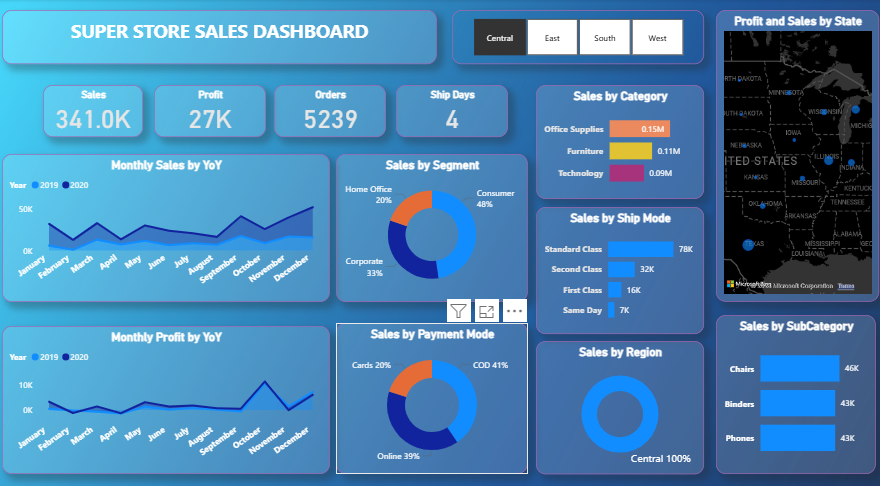

What the dashboard file says about the page in this screenshot:
{"tool":"powerbi","page":{"name":"Page 1","canvas":[1280,720],"ordinal":0},"visuals":[{"type":"clusteredBarChart","title":"Sales by Category","fields":{"Category":["SuperStore_Sales_Dataset.Category"],"Y":["Sum(SuperStore_Sales_Dataset.Sales)"]},"box":[776.2,123.8,241.9,164.2],"z":0},{"type":"clusteredBarChart","title":"Sales by SubCategory","fields":{"Category":["SuperStore_Sales_Dataset.Sub-Category"],"Y":["Sum(SuperStore_Sales_Dataset.Sales)"]},"box":[1035.4,455,230.4,229],"z":1000},{"type":"clusteredBarChart","title":"Sales by Ship Mode","fields":{"Y":["Sum(SuperStore_Sales_Dataset.Sales)"],"Category":["SuperStore_Sales_Dataset.Ship Mode"]},"box":[776.2,299.5,241.9,182.9],"z":2000},{"type":"stackedAreaChart","title":"Monthly Sales by YoY","fields":{"Y":["Sum(SuperStore_Sales_Dataset.Sales)"],"Category":["SuperStore_Sales_Dataset.Order Date.Variation.Date Hierarchy.Month","SuperStore_Sales_Dataset.Order Date.Variation.Date Hierarchy.Day"],"Series":["SuperStore_Sales_Dataset.Order Date.Variation.Date Hierarchy.Year"]},"box":[7.2,223.2,472.3,213.1],"z":3000},{"type":"stackedAreaChart","title":"Monthly Profit by YoY","fields":{"Category":["SuperStore_Sales_Dataset.Order Date.Variation.Date Hierarchy.Month","SuperStore_Sales_Dataset.Order Date.Variation.Date Hierarchy.Day"],"Series":["SuperStore_Sales_Dataset.Order Date.Variation.Date Hierarchy.Year"],"Y":["Sum(SuperStore_Sales_Dataset.Profit)"]},"box":[7.2,470.9,472.3,213.1],"z":4000},{"type":"map","title":"Profit and Sales by State","fields":{"Category":["SuperStore_Sales_Dataset.State"],"Size":["Sum(SuperStore_Sales_Dataset.Sales)"]},"box":[1035.4,15.8,234.7,420.5],"z":5000},{"type":"donutChart","title":"Sales by Segment","fields":{"Category":["SuperStore_Sales_Dataset.Segment"],"Y":["Sum(SuperStore_Sales_Dataset.Sales)"]},"box":[488.2,223.2,276.5,213.1],"z":6000},{"type":"donutChart","title":"Sales by Payment Mode","fields":{"Category":["SuperStore_Sales_Dataset.Payment Mode"],"Y":["Sum(SuperStore_Sales_Dataset.Sales)"]},"box":[488.2,466.6,276.5,217.4],"z":7000},{"type":"donutChart","title":"Sales by Region","fields":{"Category":["SuperStore_Sales_Dataset.Region"],"Y":["Sum(SuperStore_Sales_Dataset.Sales)"]},"box":[776.2,492.5,241.9,191.5],"z":8000},{"type":"slicer","fields":{"Values":["SuperStore_Sales_Dataset.Region"]},"box":[655.2,15.8,362.9,77.8],"z":9000},{"type":"textbox","box":[7.2,15.8,626.4,77.8],"z":10000},{"type":"card","title":"Sales","fields":{"Values":["Sum(SuperStore_Sales_Dataset.Sales)"]},"box":[66.2,123.8,144,74.9],"z":11000},{"type":"card","title":"Profit","fields":{"Values":["Sum(SuperStore_Sales_Dataset.Profit)"]},"box":[226.1,123.8,161.3,74.9],"z":12000},{"type":"card","title":"Orders","fields":{"Values":["Sum(SuperStore_Sales_Dataset.Quantity)"]},"box":[398.9,123.8,161.3,74.9],"z":13000},{"type":"card","title":"Ship Days","fields":{"Values":["Avg(SuperStore_Sales_Dataset.AvgDelivery)"]},"box":[574.6,123.8,161.3,74.9],"z":14000}]}

Visuals, with their boxes in screenshot pixels (x1, y1, x2, y2), scaled from the page's 1280x720 canvas onto the 880x486 screenshot:
"Sales by Category" clusteredBarChart: 534 84 700 194
"Sales by SubCategory" clusteredBarChart: 712 307 870 462
"Sales by Ship Mode" clusteredBarChart: 534 202 700 326
"Monthly Sales by YoY" stackedAreaChart: 5 151 330 295
"Monthly Profit by YoY" stackedAreaChart: 5 318 330 462
"Profit and Sales by State" map: 712 11 873 295
"Sales by Segment" donutChart: 336 151 526 295
"Sales by Payment Mode" donutChart: 336 315 526 462
"Sales by Region" donutChart: 534 332 700 462
slicer - SuperStore_Sales_Dataset.Region: 450 11 700 63
textbox: 5 11 436 63
"Sales" card: 46 84 145 134
"Profit" card: 155 84 266 134
"Orders" card: 274 84 385 134
"Ship Days" card: 395 84 506 134
